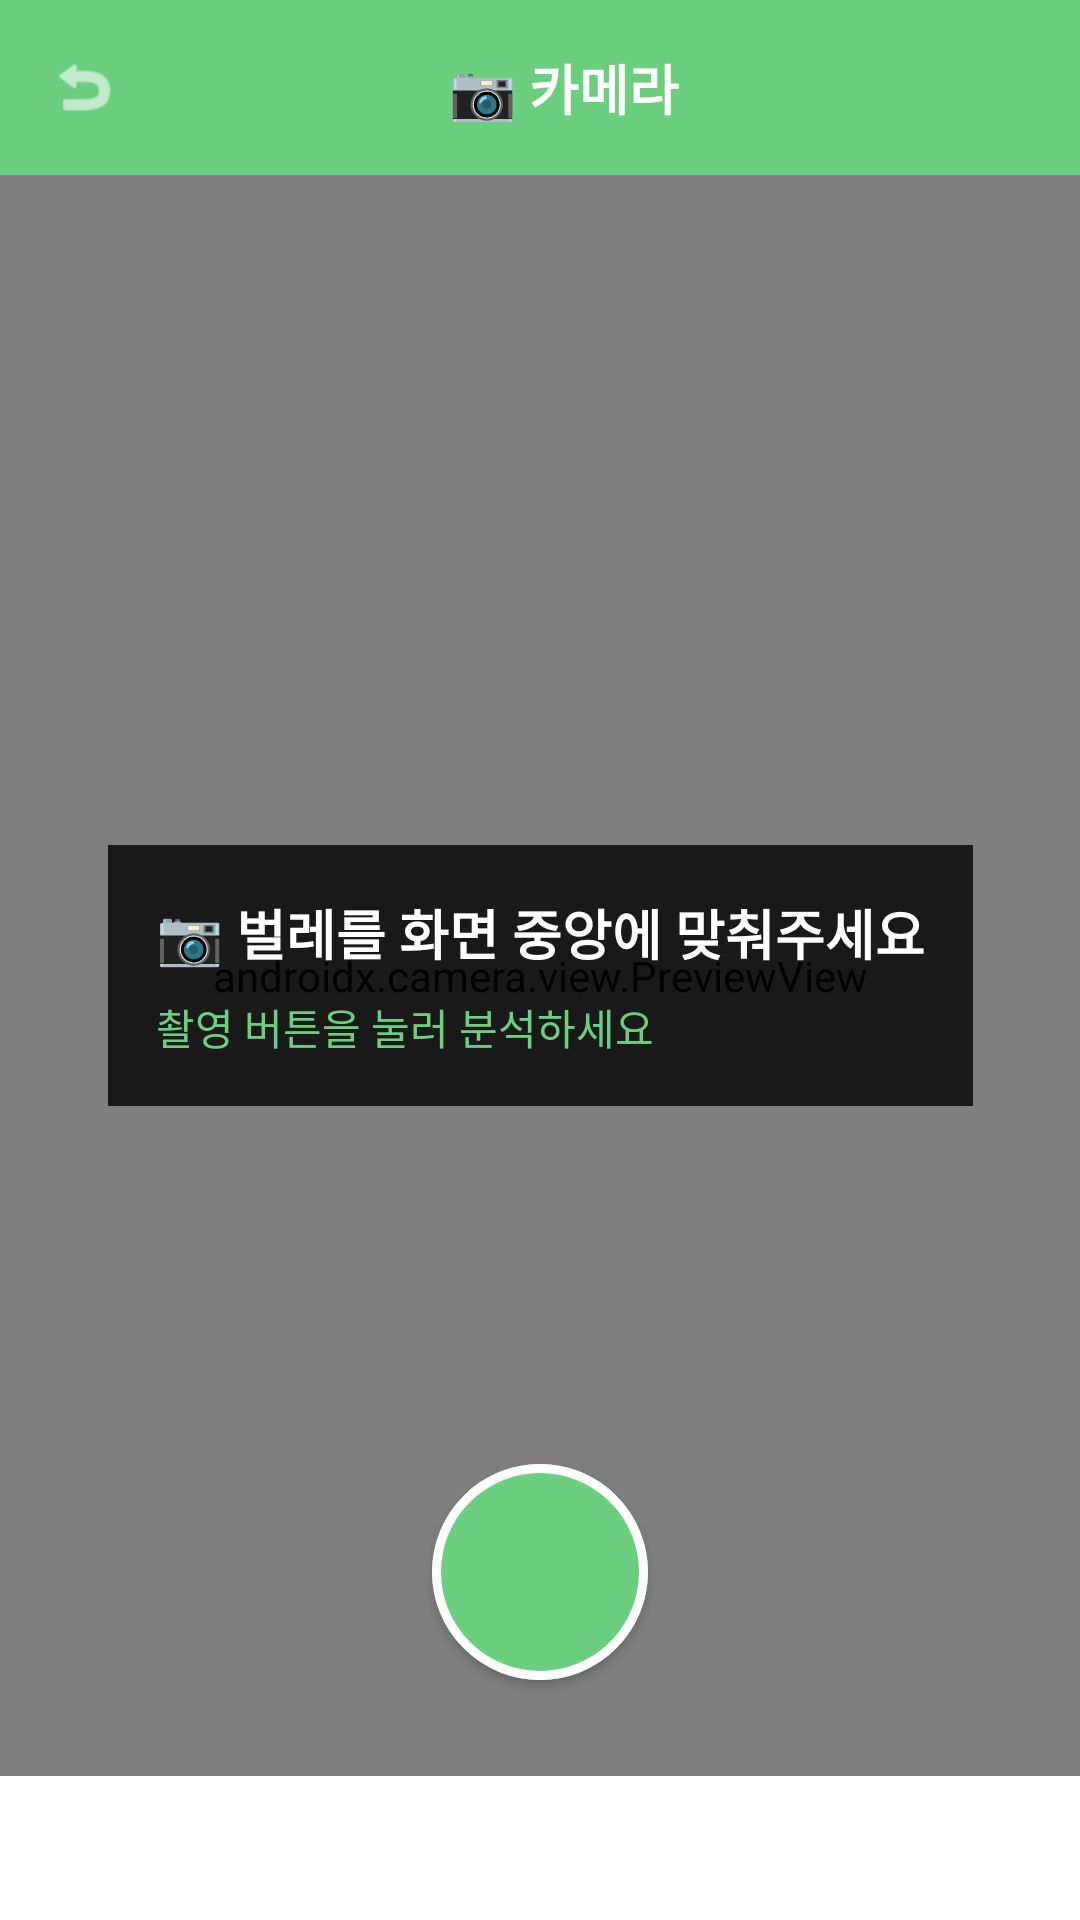

Named icons in this screenshot (1080 × 1920) and their centers, (x,y):
revert: (85,87)
